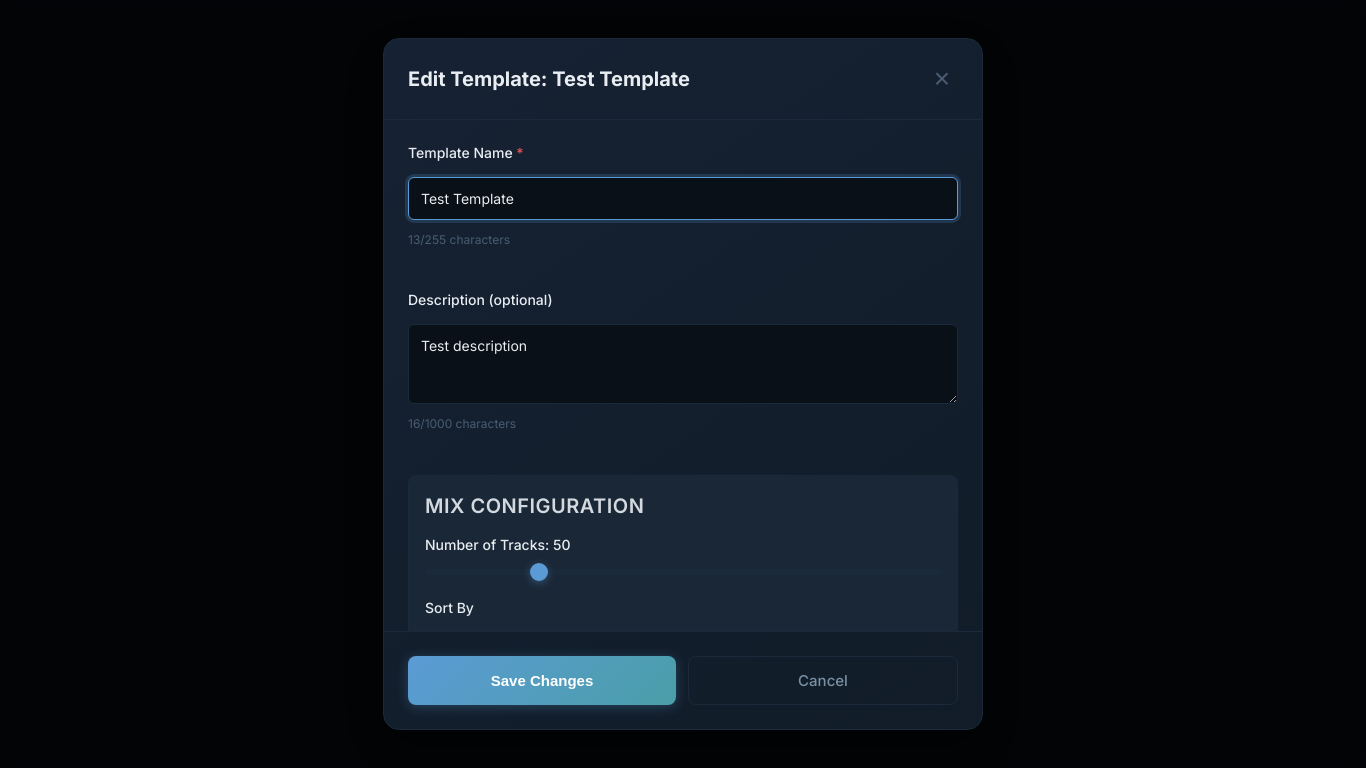
Test case: EditTemplateModal - Success/Error Messages › Error Messages › clears error message when user makes changes
The width and height of the screenshot is (1366, 768).
// Trigger error
Click the button "Save Changes".
click(542, 680)  # box [408,656,676,705]
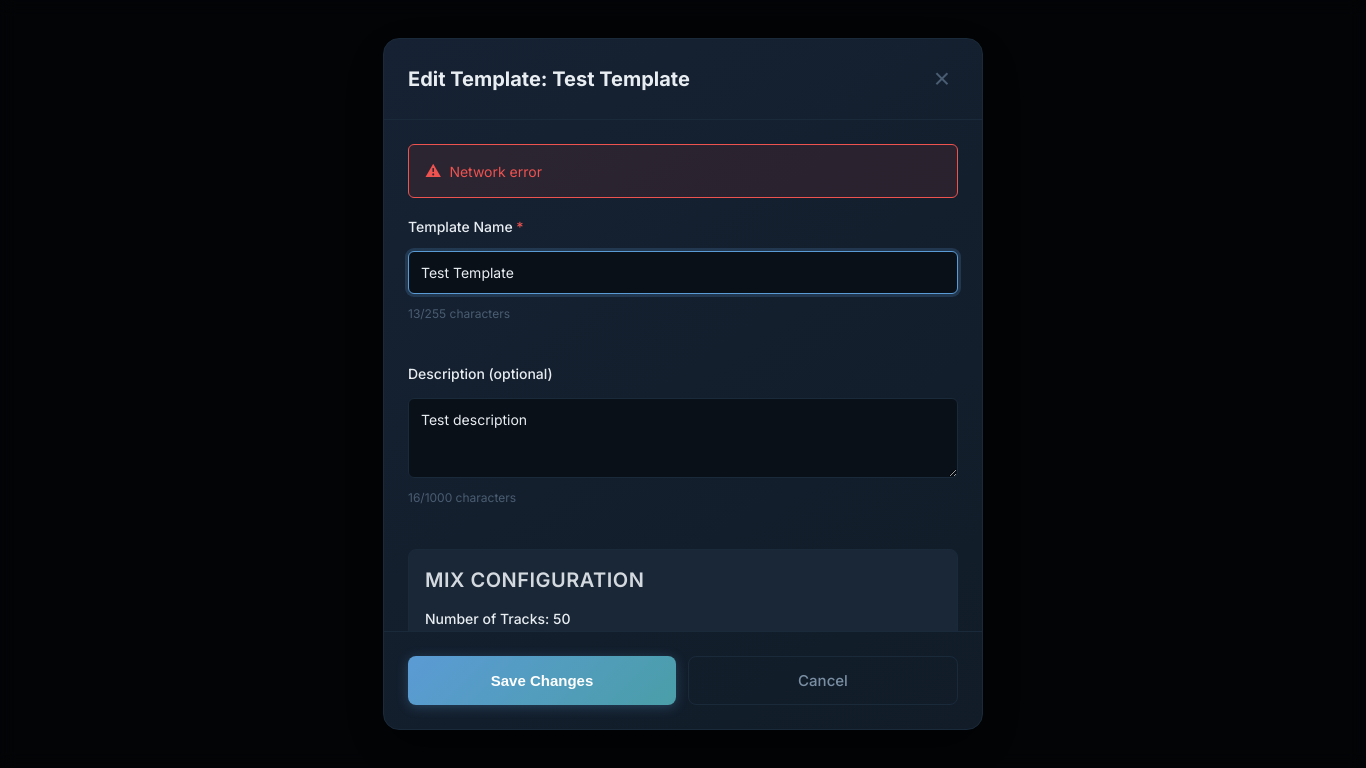
Check: the text "Network error" is shown, box [408,144,958,198]
// Make a change - error should clear
Replace the text in the field showing "Test Template" with "Updated Name" at [683, 273], box [408,251,958,294]
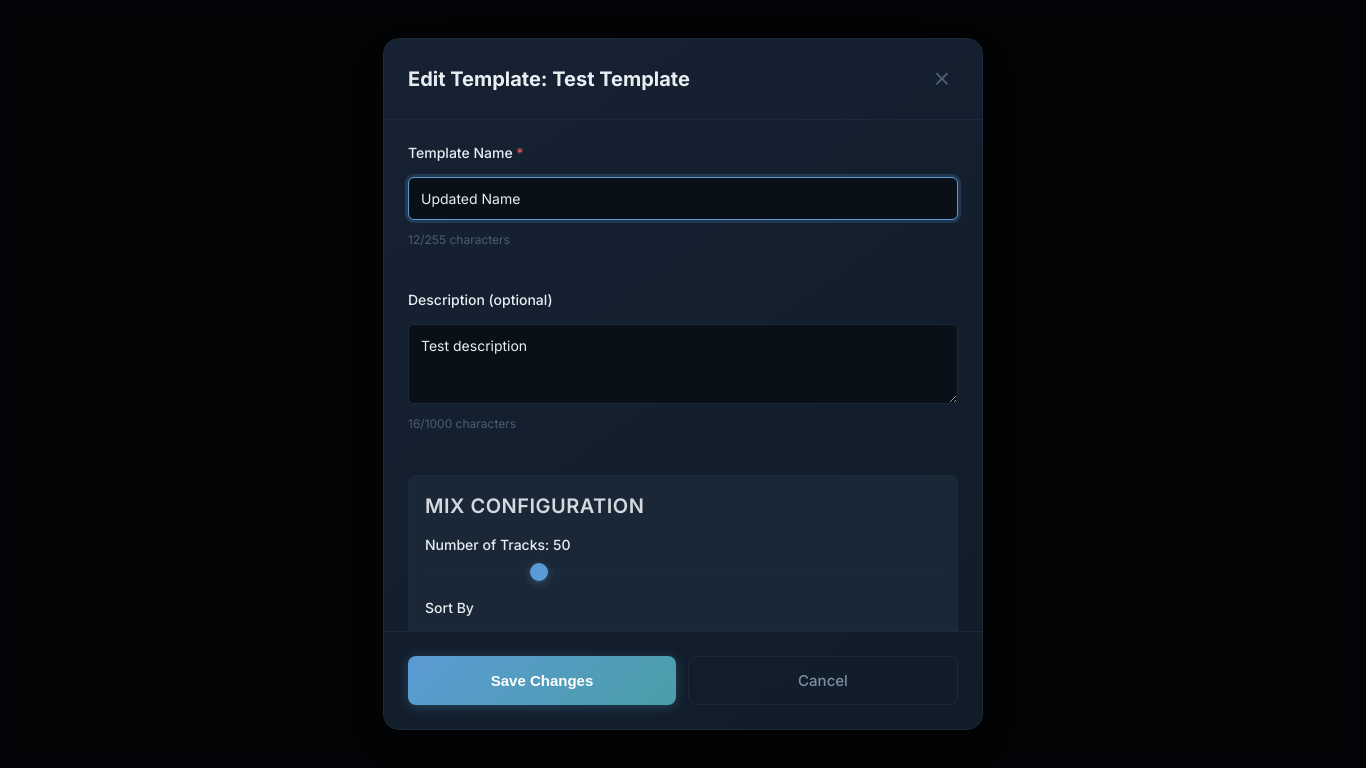
Check: the text "Network error" is gone
